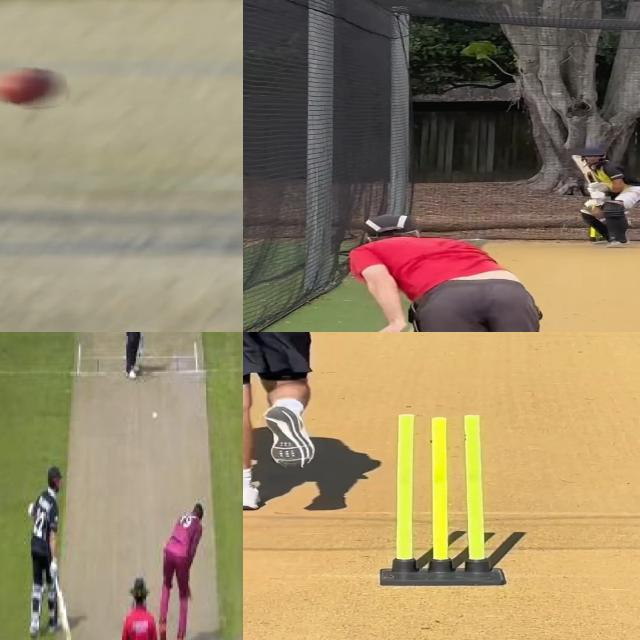Cricket ball: (0, 66, 67, 111), (582, 198, 601, 210), (151, 411, 159, 422)
Stumps: (377, 414, 504, 586)
